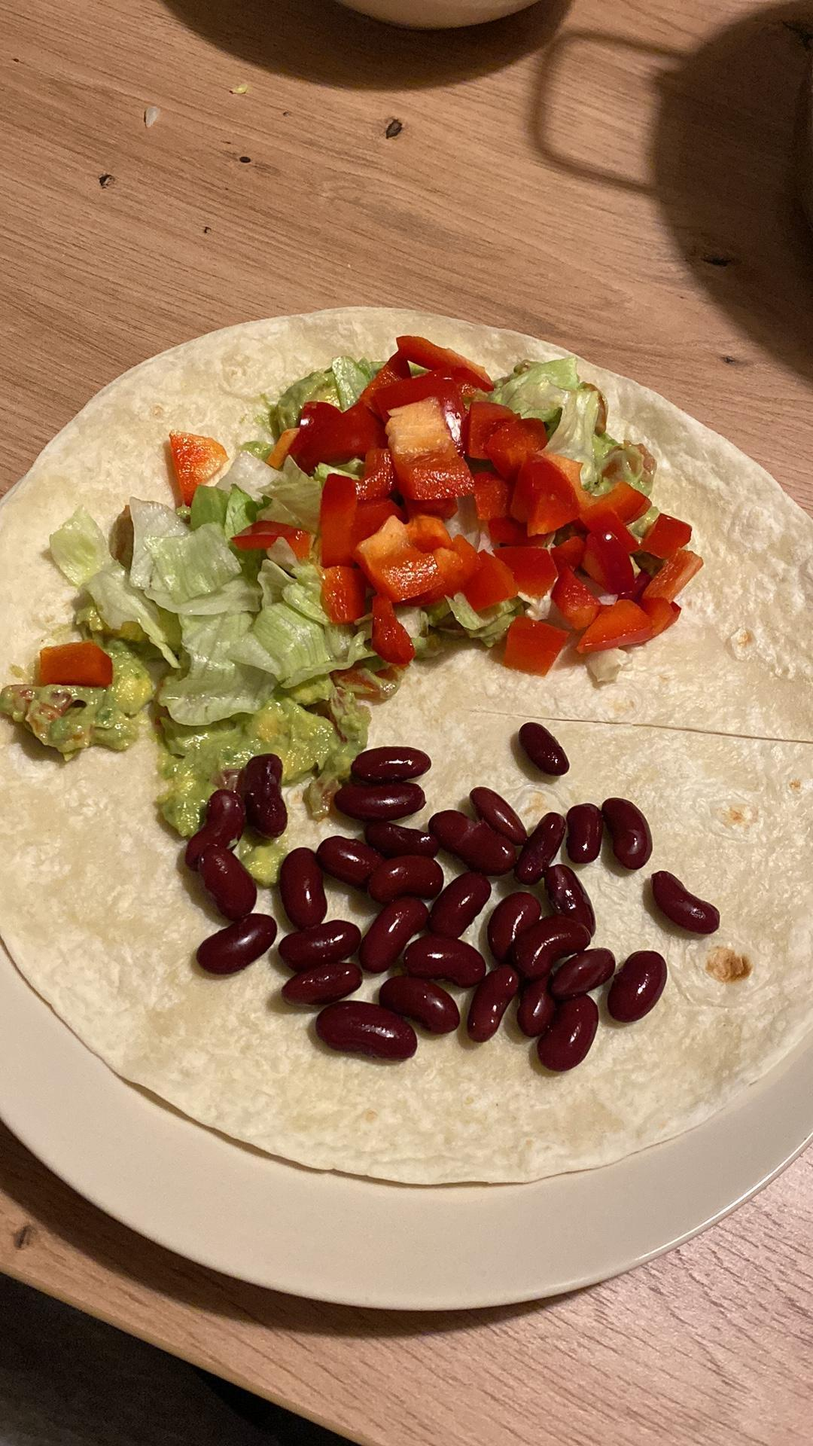avocado: (161, 713, 349, 776), (14, 681, 156, 758)
bell pepper: (382, 384, 474, 505), (547, 452, 658, 526), (358, 520, 465, 595), (303, 389, 378, 479), (393, 332, 491, 391), (507, 448, 574, 533), (155, 424, 224, 498), (504, 615, 570, 682), (579, 596, 646, 654), (371, 598, 424, 670), (640, 549, 702, 609), (499, 541, 559, 599), (489, 413, 547, 473), (35, 642, 111, 687), (318, 471, 355, 563), (463, 394, 512, 461), (582, 532, 633, 593), (241, 519, 314, 560), (555, 560, 597, 624), (317, 572, 363, 630), (642, 509, 691, 557)
lettuce: (154, 599, 290, 723), (247, 556, 378, 682), (50, 508, 176, 627), (125, 493, 233, 588), (505, 352, 600, 410), (552, 393, 622, 457)
